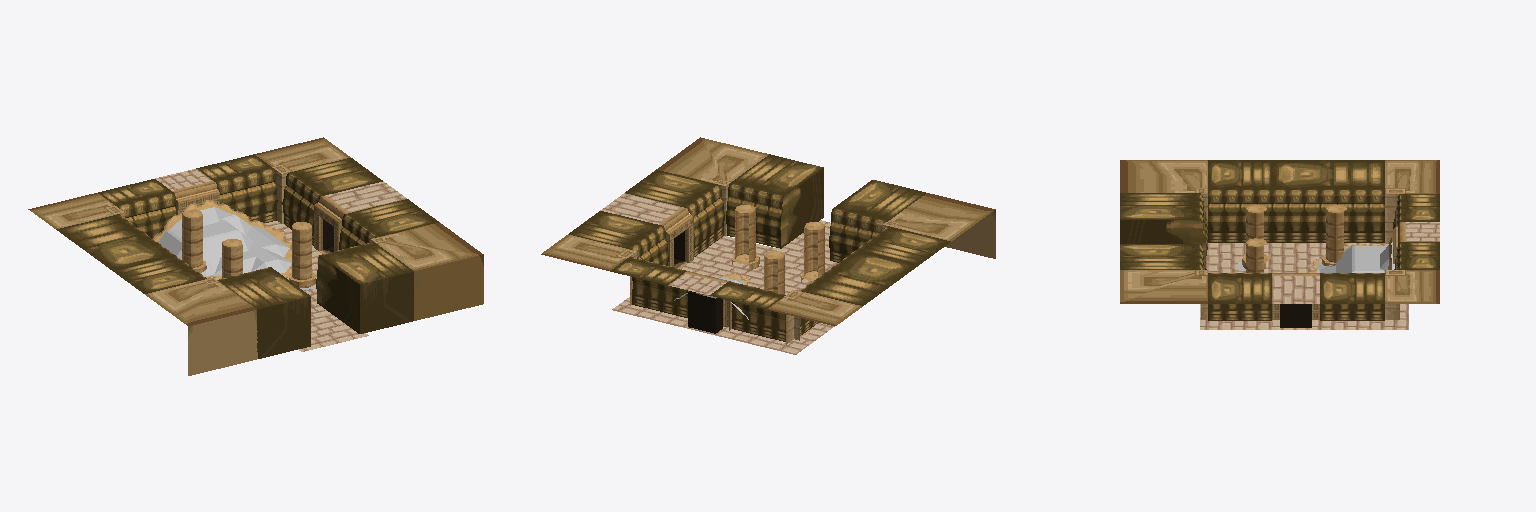
The picture shows the model from 3 angles: view 1: azimuth 30°, elevation 25°; view 2: azimuth 150°, elevation 25°; view 3: azimuth 270°, elevation 25°; orthographic projection.
Visible parts, largest first — view 1: polygon0, polygon1, polygon3, polygon9, polygon6, polygon7, polygon5, polygon11, polygon2; view 2: polygon0, polygon1, polygon6, polygon3, polygon7, polygon4, polygon2, polygon5; view 3: polygon0, polygon1, polygon6, polygon3, polygon7, polygon9, polygon2, polygon4.
Boxes of the visible parts, x1,y1,x2,y2 form: polygon0: [56, 154, 438, 358]; polygon1: [28, 137, 483, 375]; polygon3: [125, 182, 365, 316]; polygon9: [158, 207, 291, 276]; polygon6: [155, 169, 406, 351]; polygon7: [182, 209, 315, 287]; polygon5: [172, 181, 348, 222]; polygon11: [153, 199, 265, 241]; polygon2: [120, 170, 373, 253]; polygon0: [569, 154, 950, 341]; polygon1: [541, 137, 995, 330]; polygon6: [600, 193, 836, 354]; polygon3: [632, 185, 877, 331]; polygon7: [732, 205, 824, 294]; polygon4: [674, 231, 722, 333]; polygon2: [630, 184, 887, 344]; polygon5: [659, 207, 728, 282]; polygon0: [1120, 160, 1439, 320]; polygon1: [1120, 160, 1439, 319]; polygon6: [1200, 222, 1439, 329]; polygon3: [1166, 204, 1399, 310]; polygon7: [1242, 204, 1346, 272]; polygon9: [1316, 242, 1394, 272]; polygon2: [1201, 194, 1399, 319]; polygon4: [1280, 304, 1311, 327].
Size of the model in its own units: 5.33 by 1.04 by 5.
Materials: 12 (10 with a texture image).